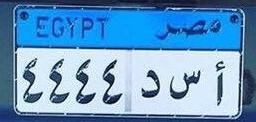4: (101, 57, 123, 106), (74, 58, 96, 106), (21, 57, 43, 104), (48, 58, 70, 104)
alif: (210, 59, 228, 108)
daal: (138, 68, 163, 101)
seen: (167, 67, 204, 105)
